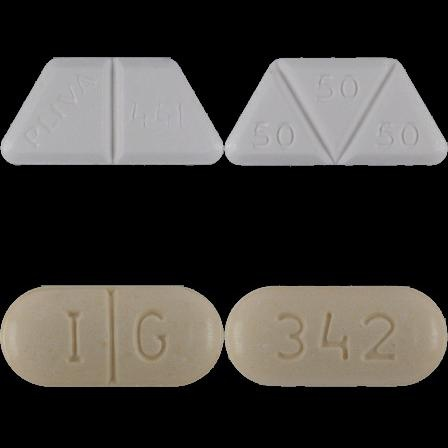61919-585: (0, 0, 224, 224)
